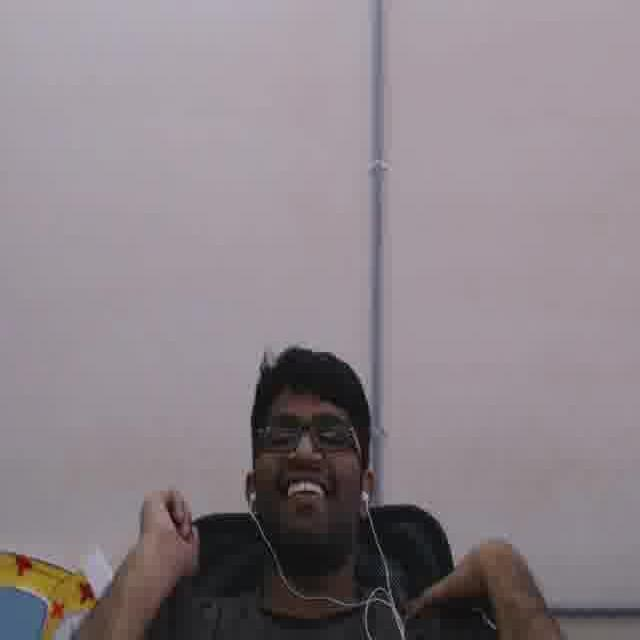Engaged: (255, 387, 356, 541)
